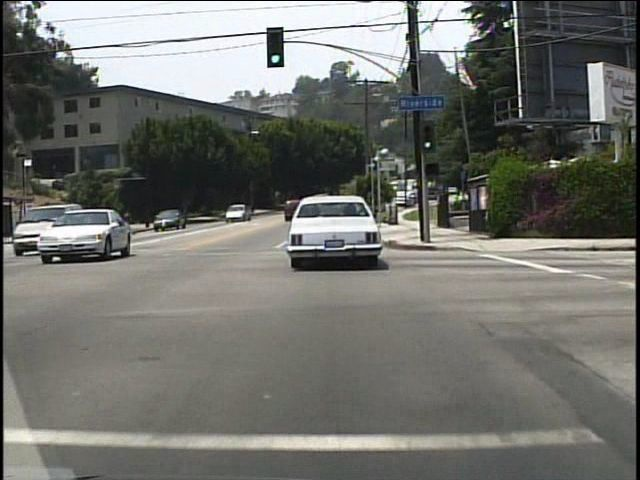person: (125, 208, 136, 232)
